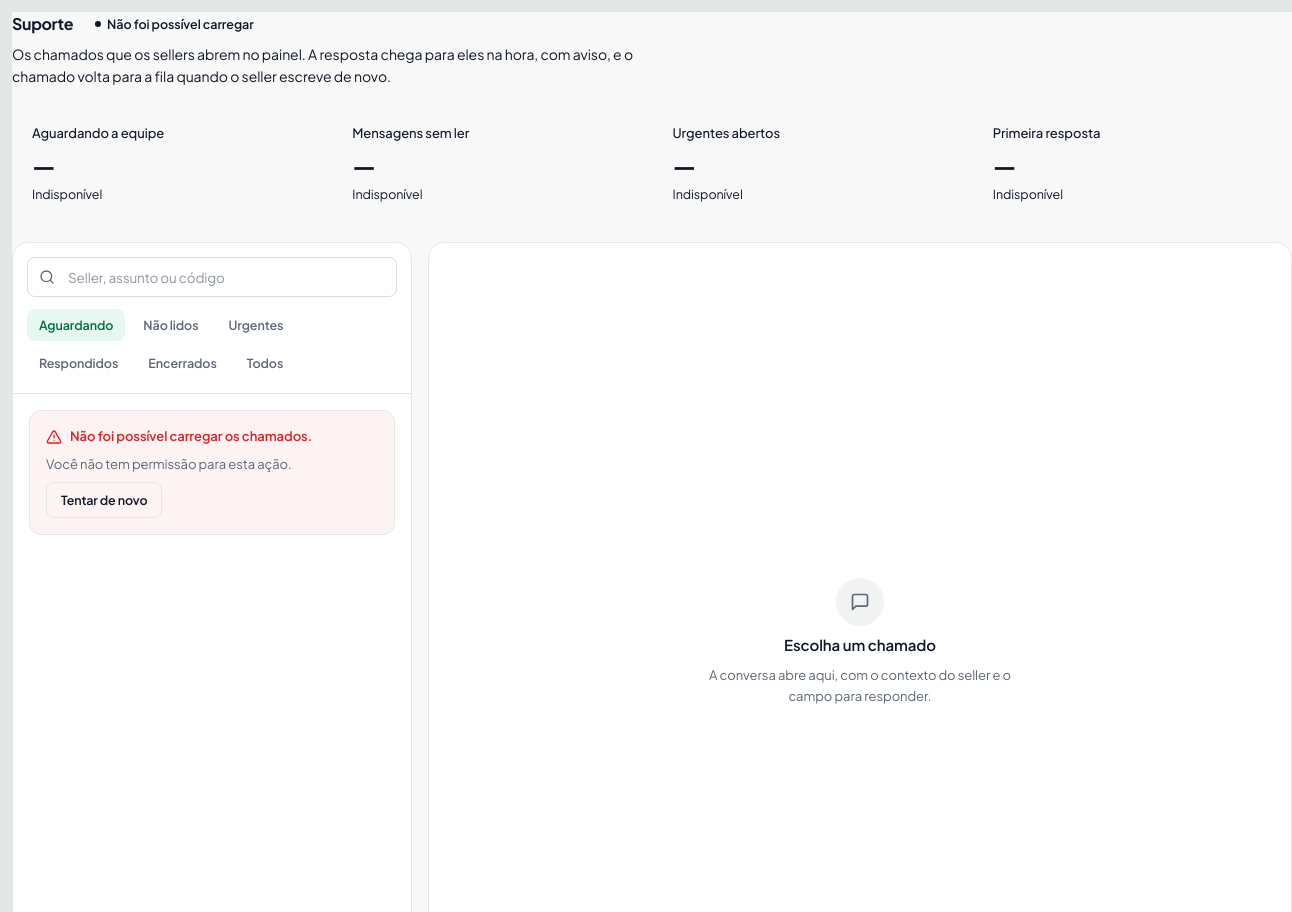
Test: Suporte do admin › sem chamados explica o que fazer; com erro mostra o aviso e tenta de novo
Later steps or results of the test are not shown.
Expected: the text "Não foi possível carregar os chamados." is shown, [46, 427, 312, 447]
Click the button "Tentar de novo": (104, 500) [46, 482, 162, 518]
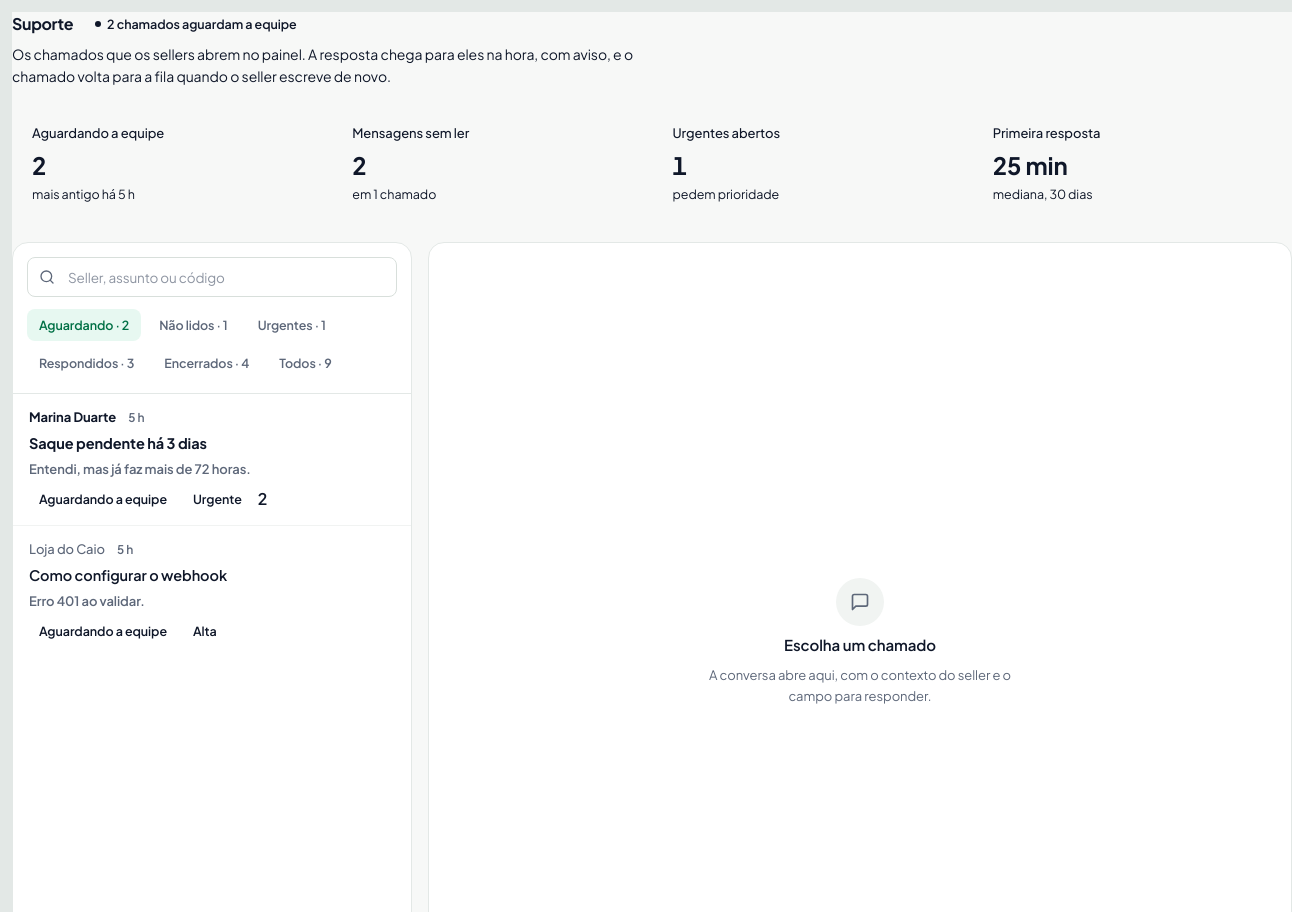
Expected: the button "Saque pendente" is shown, [13, 394, 411, 525]
